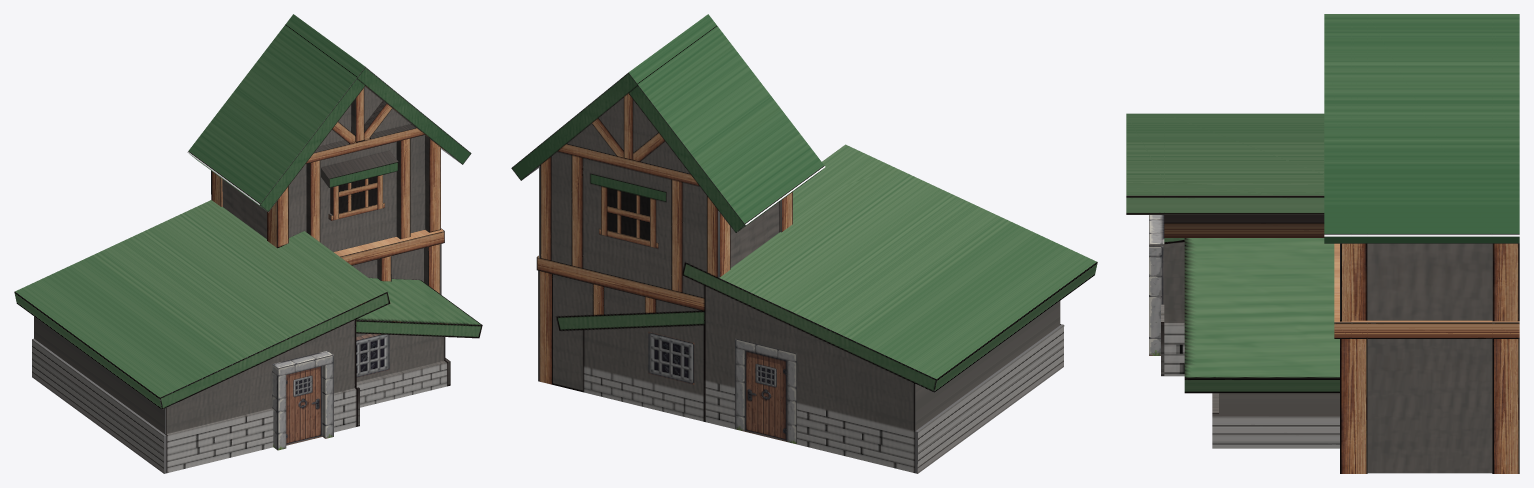
Rendered from House_3_B.fbx.
The picture shows the model from 3 angles, left to right: view 1: azimuth 30°, elevation 25°; view 2: azimuth 150°, elevation 25°; view 3: azimuth 270°, elevation 25°; orthographic projection. The views are drawn at different scales.
Parts seen in each view (by area): view 1: House-3; view 2: House-3; view 3: House-3.
Boxes of the visible parts, <box> form: House-3: <box>14,14,482,473</box>; House-3: <box>511,14,1097,473</box>; House-3: <box>1126,14,1519,473</box>.
Size of the model in its own units: 289 by 214 by 188.
